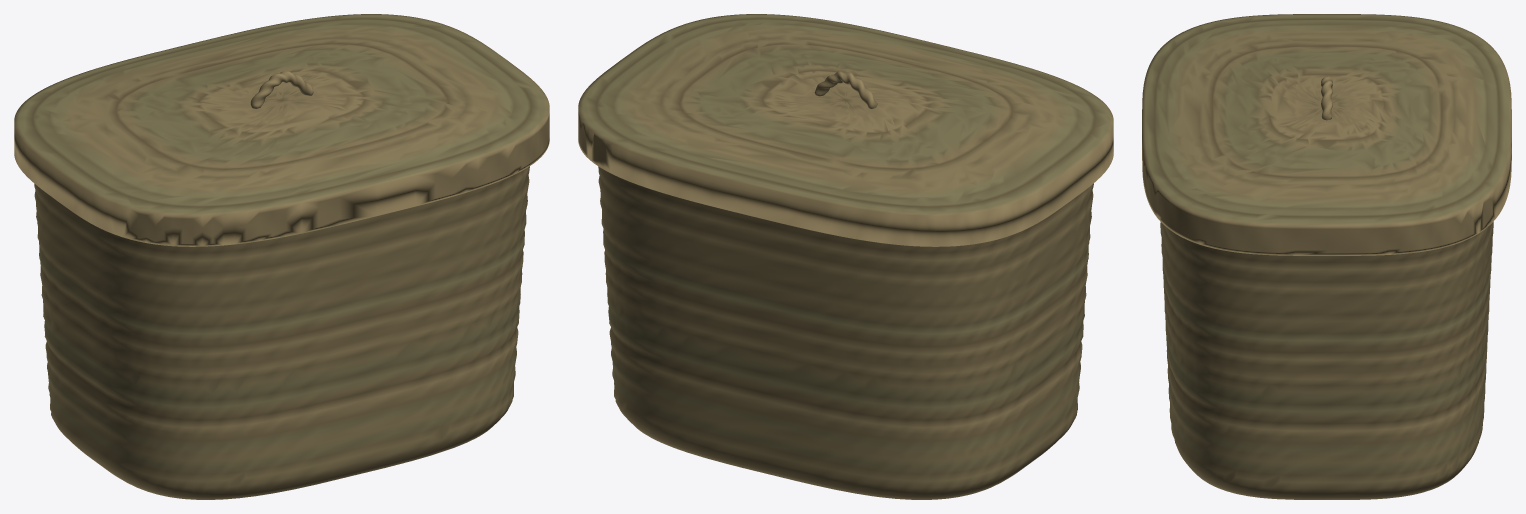
Rendered from camp-store.glb.
The picture shows the model from 3 angles, left to right: view 1: azimuth 30°, elevation 25°; view 2: azimuth 150°, elevation 25°; view 3: azimuth 270°, elevation 25°; orthographic projection. The views are drawn at different scales.
Visible parts, largest first — view 1: camp-store; view 2: camp-store; view 3: camp-store.
Boxes of the visible parts, box(x1,y1,x2,y2) form: camp-store: box(14, 14, 549, 499); camp-store: box(578, 14, 1113, 499); camp-store: box(1142, 14, 1511, 499).
Size of the model in its own units: 0.536 by 0.3937 by 0.3949.
